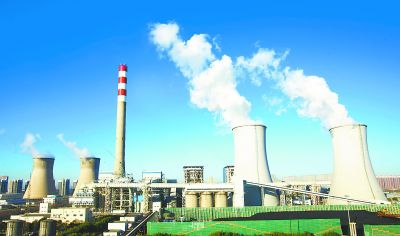dust: (162, 31, 267, 135), (279, 56, 370, 135)
